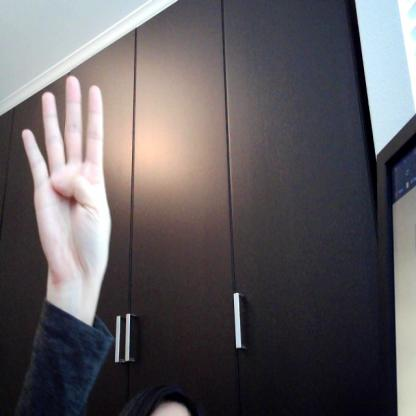four: (18, 70, 118, 289)
